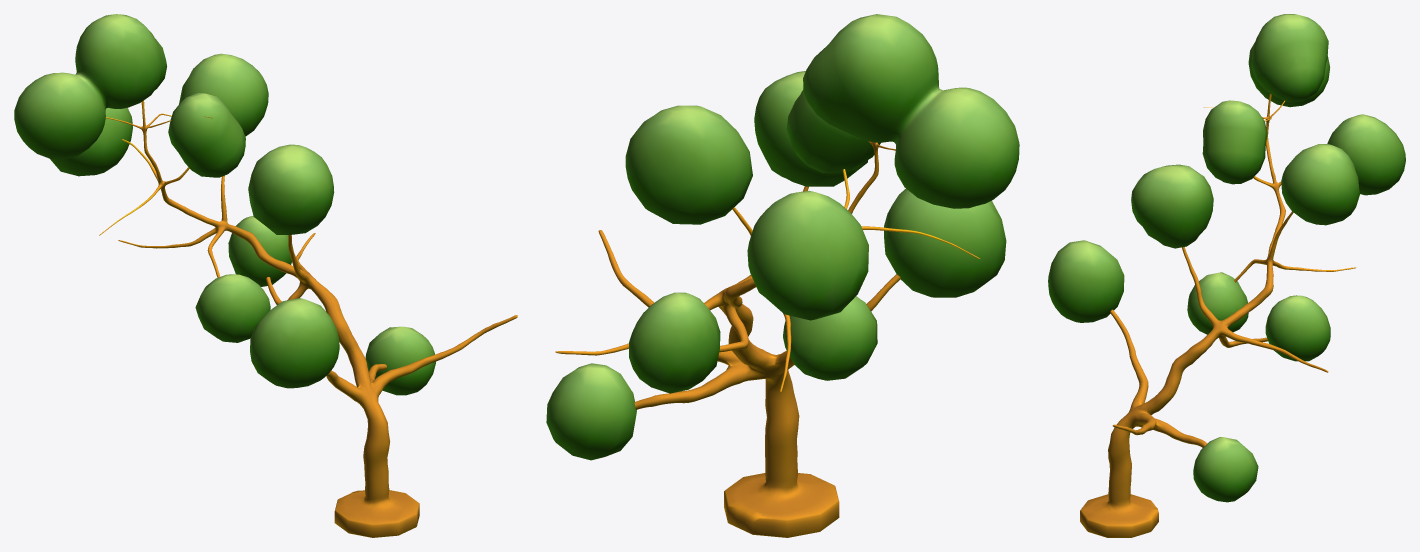
The model's file is tree8.fbx.
3 renders of one model, left to right at view 1: azimuth 30°, elevation 25°; view 2: azimuth 150°, elevation 25°; view 3: azimuth 270°, elevation 25°, orthographic. The views are drawn at different scales.
Visible parts, largest first — view 1: trunk_11; view 2: trunk_11; view 3: trunk_11.
Boxes of the visible parts, x1,y1,x2,y2 form: trunk_11: [14, 14, 517, 537]; trunk_11: [546, 14, 1019, 537]; trunk_11: [1048, 14, 1405, 537].
Bounding box in the file's own units: 659 × 742 × 558.
